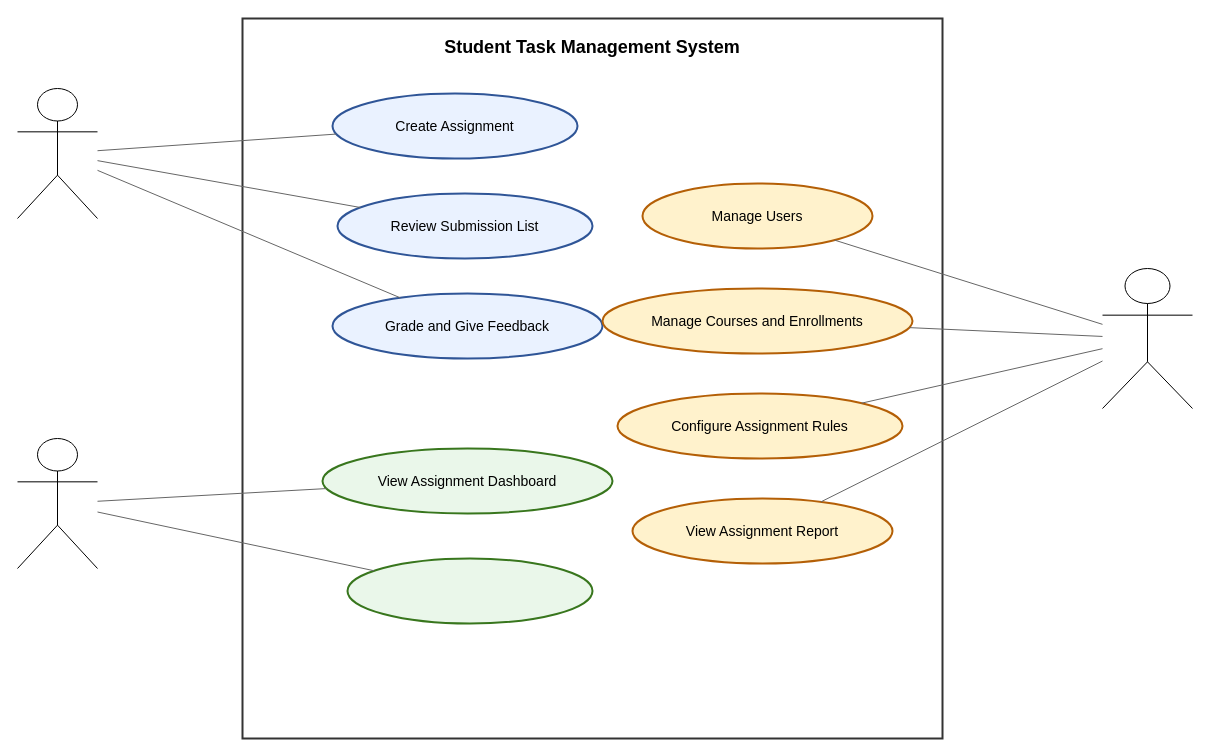
Some shapes in this 1212 by 756 pixel diagram are drawn without their labels. Each missing label, with the centre of its shape:
Administrator: (1147,338)
Lecturer: (57,153)
Student: (57,503)
Submit Assignment: (469,590)
